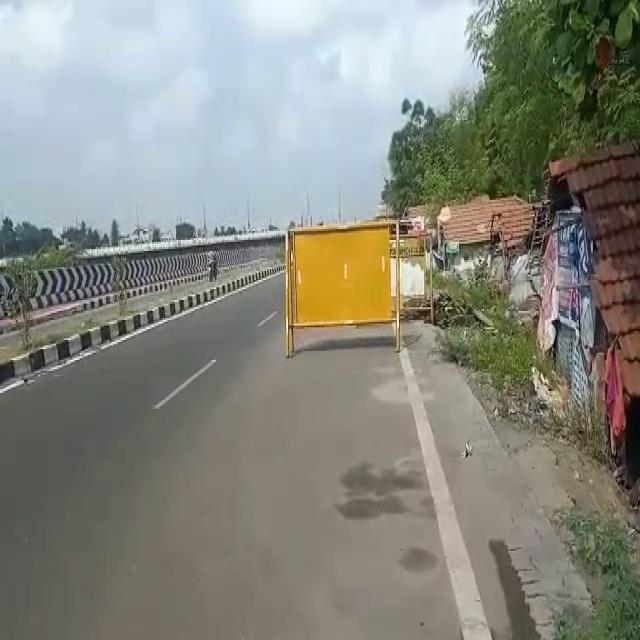fallen_object: (282, 219, 402, 357)
